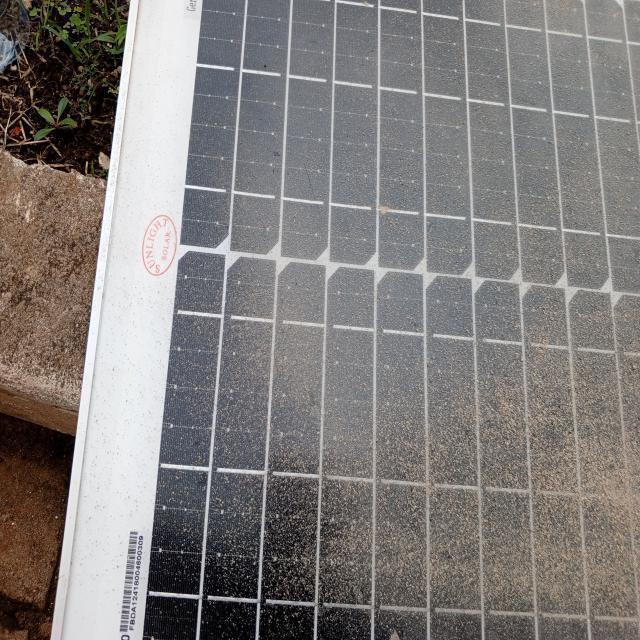Surface Contaminant: (182, 16, 639, 639)
